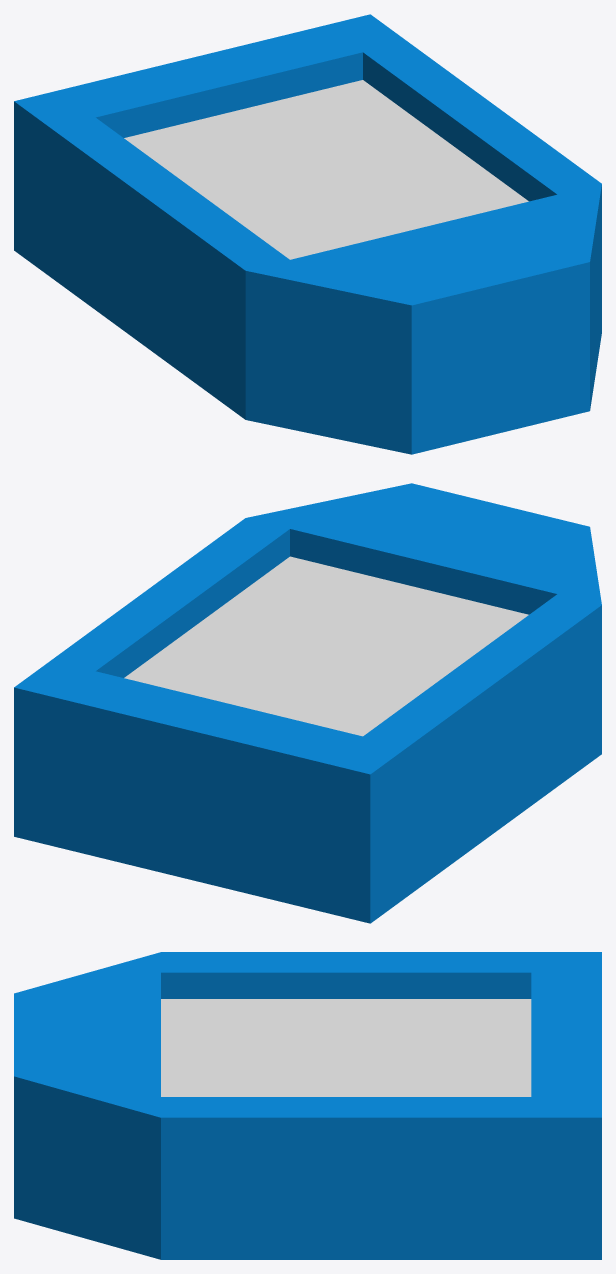
The model's file is glucose_monitor_1.glb.
3 views of the same model, one above another, from view 1: azimuth 30°, elevation 25°; view 2: azimuth 150°, elevation 25°; view 3: azimuth 270°, elevation 25° (orthographic). The views are drawn at different scales.
Parts seen in each view (by area): view 1: Cube; view 2: Cube; view 3: Cube.
Boxes of the visible parts, left/top/right/bottom form: Cube: left=14, top=14, right=601, bottom=454; Cube: left=14, top=483, right=601, bottom=923; Cube: left=14, top=952, right=601, bottom=1259.
Bounding box in the file's own units: 0.08 × 0.032 × 0.12.
